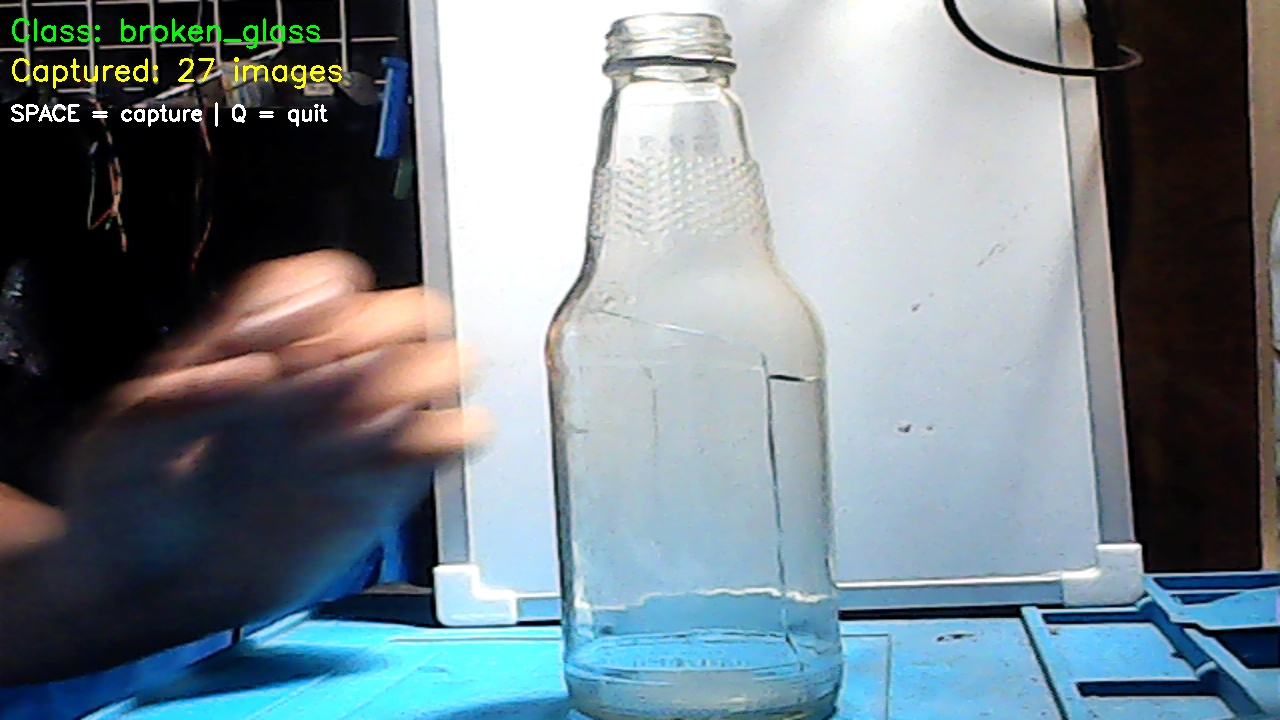broken_glass: (547, 6, 847, 720)
